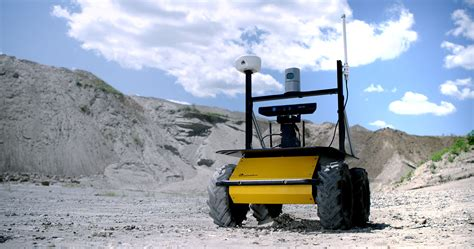husky: (207, 13, 371, 232)
